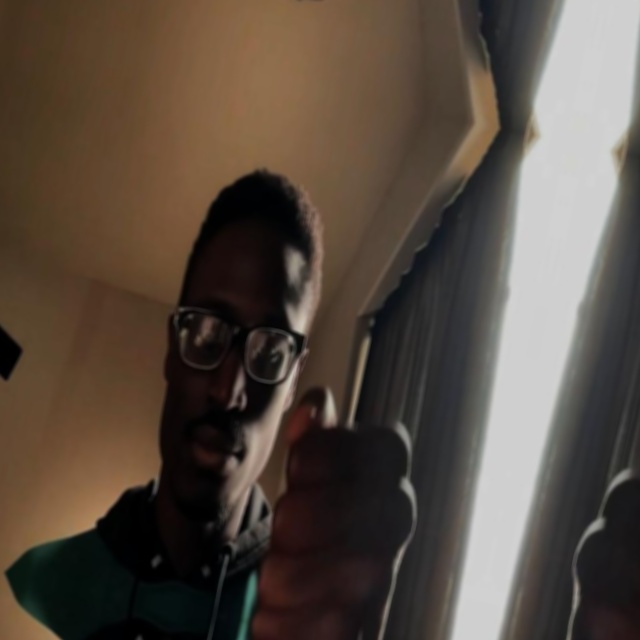Rock: (247, 381, 438, 640)
